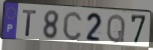2: (85, 11, 104, 43)
7: (130, 14, 148, 46)
8: (43, 9, 60, 40)
C: (62, 10, 83, 42)
Q: (105, 13, 127, 45)
T: (22, 9, 38, 38)
